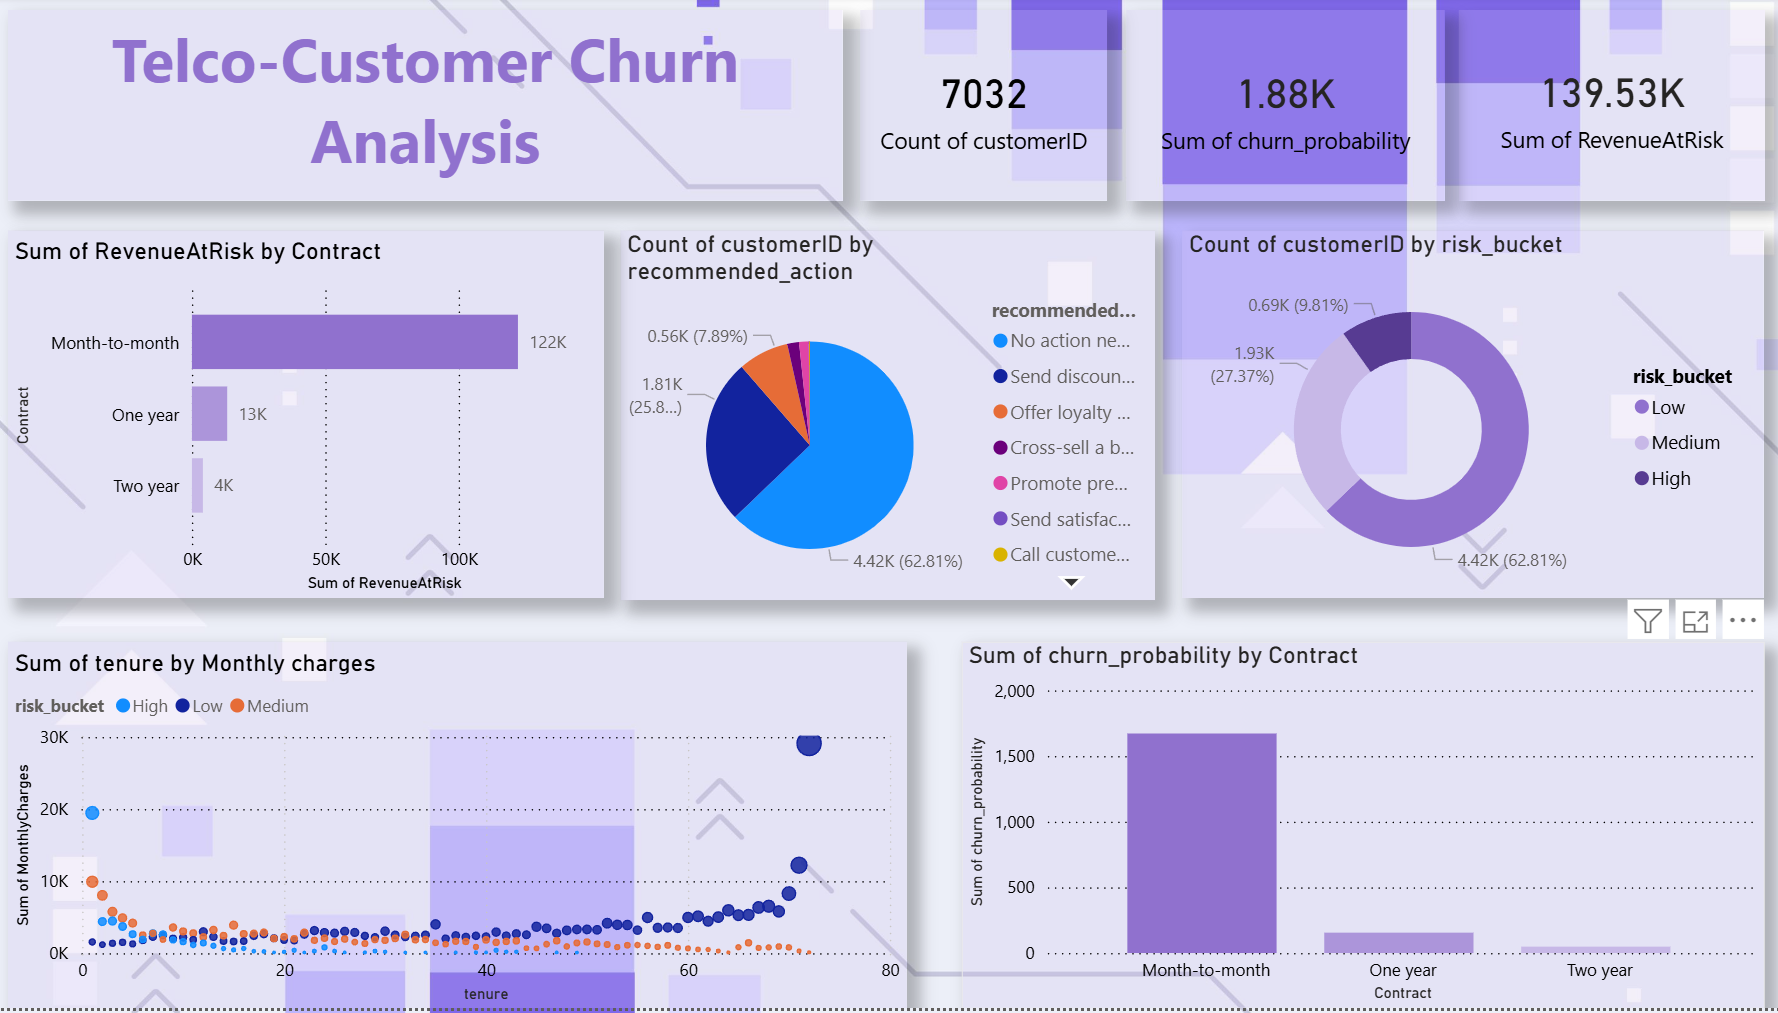

The page's visual inventory and layout, read from the dashboard file:
{"tool":"powerbi","page":{"name":"Page 1","canvas":[1280,720],"ordinal":0},"visuals":[{"type":"donutChart","fields":{"Category":["churn_predictions_with_actions2.risk_bucket"],"Y":["CountNonNull(churn_predictions_with_actions2.customerID)"]},"box":[849.8,166.1,413.3,261.4],"z":0},{"type":"pieChart","fields":{"Y":["CountNonNull(churn_predictions_with_actions2.customerID)"],"Category":["churn_predictions_with_actions2.recommended_action"]},"box":[450.6,166.1,379.8,262.7],"z":1000},{"type":"clusteredBarChart","fields":{"Category":["churn_predictions_with_actions2.Contract"],"Y":["Sum(churn_predictions_with_actions2.RevenueAtRisk)"]},"box":[15.5,166.1,423.6,261.4],"z":2000},{"type":"scatterChart","title":"Sum of tenure by Monthly charges ","fields":{"X":["churn_predictions_with_actions2.tenure"],"Y":["Sum(churn_predictions_with_actions2.MonthlyCharges)"],"Size":["Sum(churn_predictions_with_actions2.num_services)"],"Series":["churn_predictions_with_actions2.risk_bucket"]},"box":[15.5,458.4,638.6,261.4],"z":3000},{"type":"clusteredColumnChart","fields":{"Y":["Sum(churn_predictions_with_actions2.churn_probability)"],"Category":["churn_predictions_with_actions2.Contract"]},"box":[692.7,458.4,570.4,261.4],"z":4000},{"type":"card","fields":{"Values":["Sum(churn_predictions_with_actions2.RevenueAtRisk)"]},"box":[1045.5,10.3,217.6,135.2],"z":5000},{"type":"card","fields":{"Values":["Sum(churn_predictions_with_actions2.churn_probability)"]},"box":[809.7,10,226.4,135.6],"z":5001},{"type":"card","fields":{"Values":["CountNonNull(churn_predictions_with_actions2.customerID)"]},"box":[620.6,10,175.4,135.6],"z":5002},{"type":"textbox","box":[14.9,10,593.3,135.6],"z":5003}]}

Visuals, with their boxes in screenshot pixels (x1, y1, x2, y2), scaled from the page's 1280x720 canvas onto the 1778x1013 screenshot:
donutChart - churn_predictions_with_actions2.risk_bucket x CountNonNull(churn_predictions_with_actions2.customerID): [left=1180, top=234, right=1755, bottom=601]
pieChart - CountNonNull(churn_predictions_with_actions2.customerID) x churn_predictions_with_actions2.recommended_action: [left=626, top=234, right=1153, bottom=603]
clusteredBarChart - churn_predictions_with_actions2.Contract x Sum(churn_predictions_with_actions2.RevenueAtRisk): [left=22, top=234, right=610, bottom=601]
"Sum of tenure by Monthly charges " scatterChart: [left=22, top=645, right=909, bottom=1012]
clusteredColumnChart - Sum(churn_predictions_with_actions2.churn_probability) x churn_predictions_with_actions2.Contract: [left=962, top=645, right=1755, bottom=1012]
card - Sum(churn_predictions_with_actions2.RevenueAtRisk): [left=1452, top=14, right=1755, bottom=205]
card - Sum(churn_predictions_with_actions2.churn_probability): [left=1125, top=14, right=1439, bottom=205]
card - CountNonNull(churn_predictions_with_actions2.customerID): [left=862, top=14, right=1106, bottom=205]
textbox: [left=21, top=14, right=845, bottom=205]
